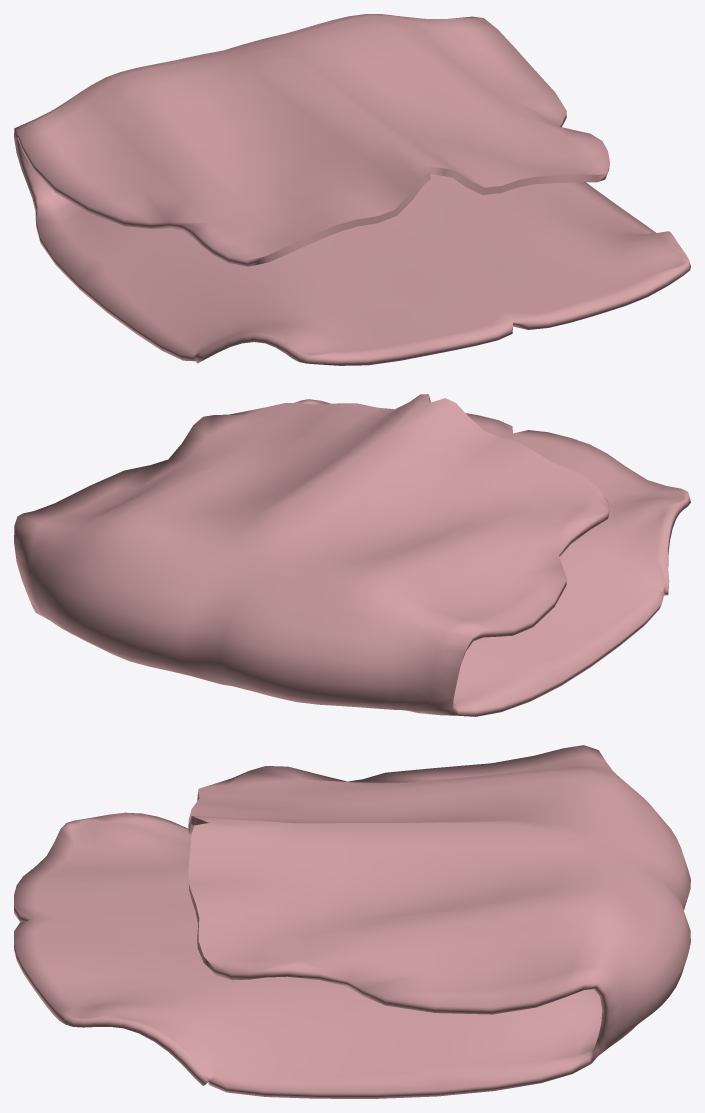
3 renders of one model, top to bottom at view 1: azimuth 30°, elevation 25°; view 2: azimuth 150°, elevation 25°; view 3: azimuth 270°, elevation 25°, orthographic. The views are drawn at different scales.
Parts seen in each view (by area): view 1: ZA_ad5c00cdd8042733; view 2: ZA_ad5c00cdd8042733; view 3: ZA_ad5c00cdd8042733.
Boxes of the visible parts, left/top/right/bottom form: ZA_ad5c00cdd8042733: left=14, top=14, right=690, bottom=365; ZA_ad5c00cdd8042733: left=14, top=394, right=690, bottom=716; ZA_ad5c00cdd8042733: left=14, top=745, right=690, bottom=1098.
Bounding box in the file's own units: 0.0353 × 0.0102 × 0.0406.
